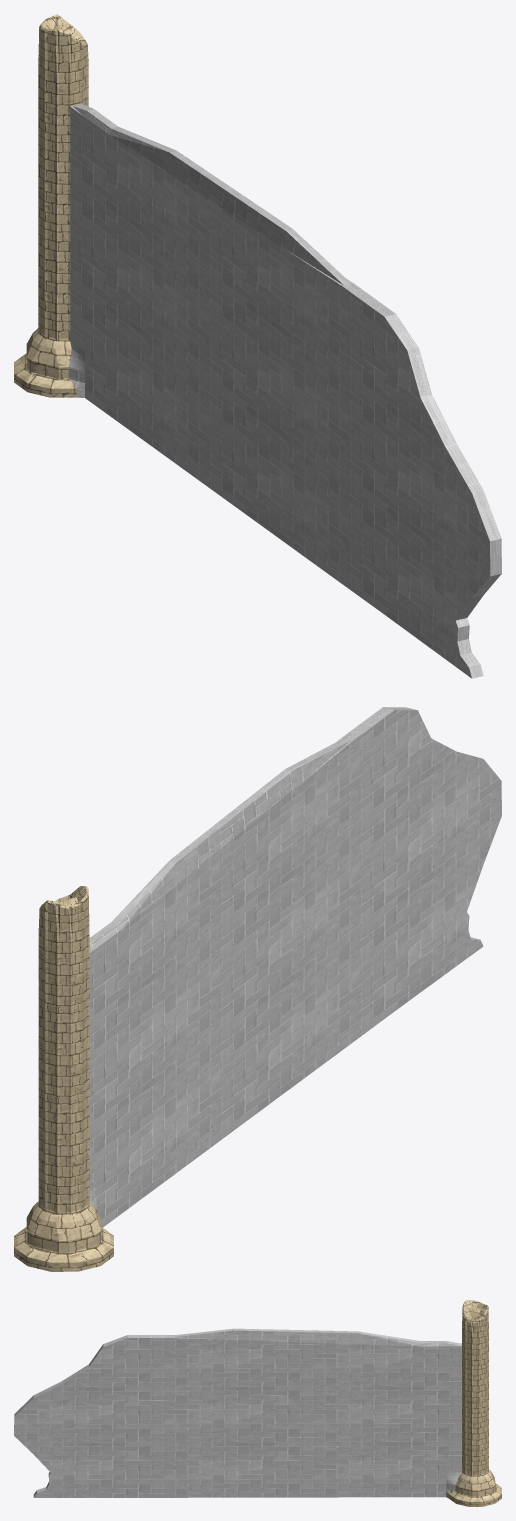
The model's file is Enigma Key.fbx.
3 renders of one model, top to bottom at view 1: azimuth 30°, elevation 25°; view 2: azimuth 150°, elevation 25°; view 3: azimuth 270°, elevation 25°, orthographic. The views are drawn at different scales.
Parts seen in each view (by area): view 1: Cylinder001; view 2: Cylinder001; view 3: Cylinder001.
Part boxes in pixels (x1,y1,x2,y2): Cylinder001: (14, 14, 501, 678); Cylinder001: (14, 707, 501, 1271); Cylinder001: (14, 1300, 501, 1506).
Bounding box in the file's own units: 121 × 482 × 1112.
2 materials, 2 textured.
